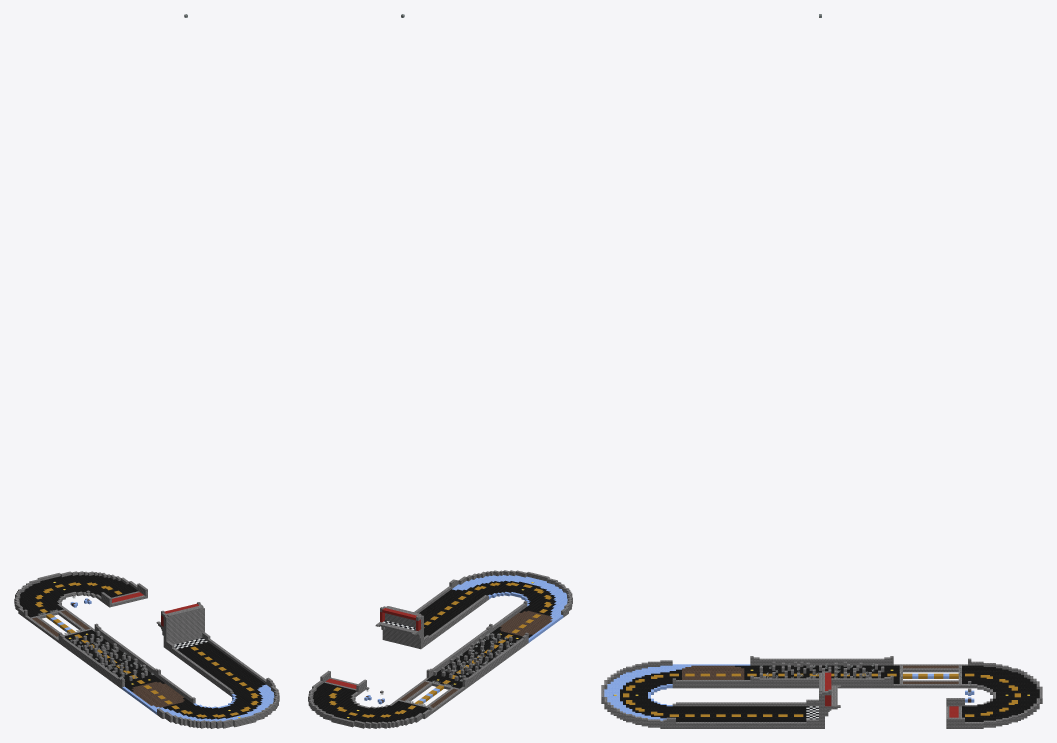
The model's file is minecraft.obj.
3 views of the same model, side by side, from view 1: azimuth 30°, elevation 25°; view 2: azimuth 150°, elevation 25°; view 3: azimuth 270°, elevation 25° (orthographic). The views are drawn at different scales.
Size of the model in its own units: 470 by 2500 by 1420.
